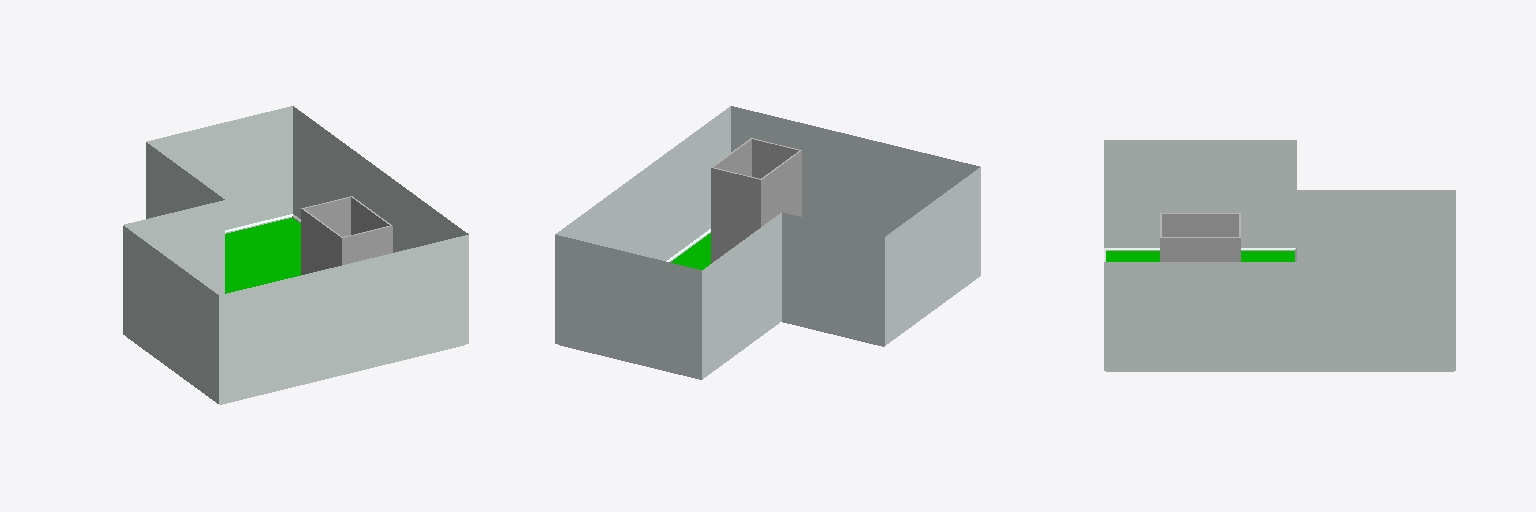
Rendered from tuba.obj.
3 views of the same model, side by side, from view 1: azimuth 30°, elevation 25°; view 2: azimuth 150°, elevation 25°; view 3: azimuth 270°, elevation 25° (orthographic).
Visible parts, largest first — view 1: Plane; view 2: Plane; view 3: Plane.
Boxes of the visible parts, <box> form: Plane: <box>123,106,468,404</box>; Plane: <box>555,106,980,379</box>; Plane: <box>1104,140,1455,371</box>.
Size of the model in its own units: 2.99 by 1.27 by 3.65.